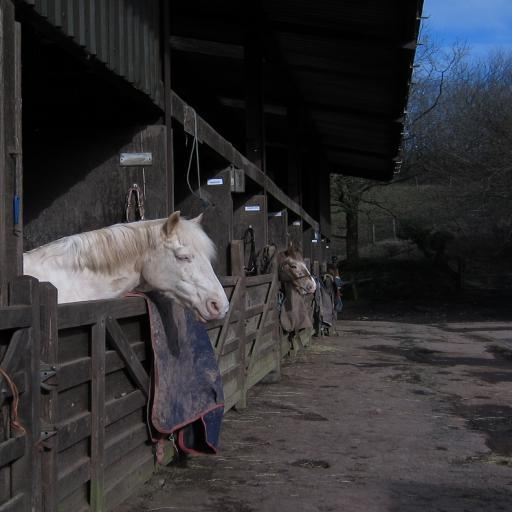horse: (22, 210, 234, 328), (258, 245, 316, 298)
